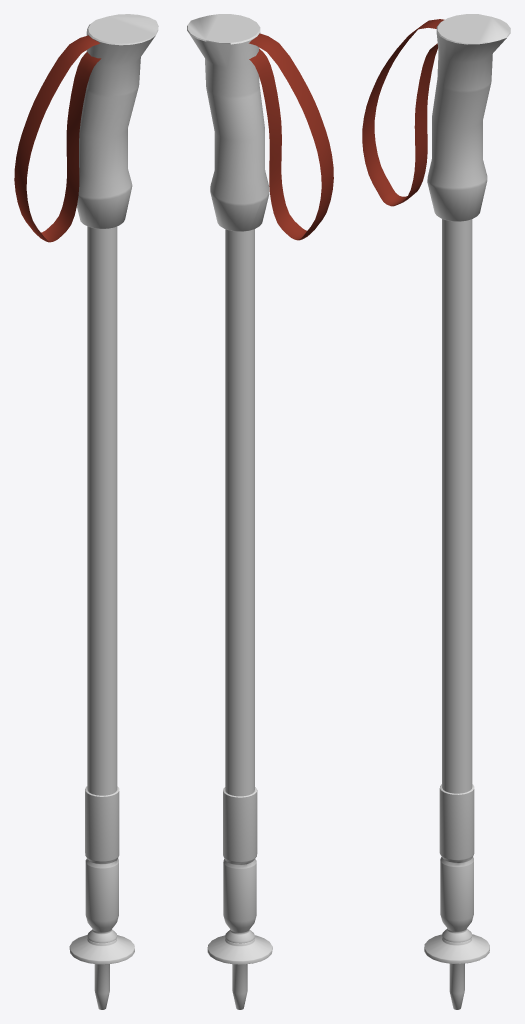
The model's file is poles.fbx.
3 renders of one model, left to right at view 1: azimuth 30°, elevation 25°; view 2: azimuth 150°, elevation 25°; view 3: azimuth 330°, elevation 25°, orthographic.
Parts seen in each view (by area): view 1: xuezhang, xuezhangSheng; view 2: xuezhang, xuezhangSheng; view 3: xuezhang, xuezhangSheng.
Part boxes in pixels (box(x1,y1,x2,y2)): xuezhang: box(69, 14, 158, 1009); xuezhangSheng: box(14, 35, 101, 242); xuezhang: box(187, 14, 272, 1009); xuezhangSheng: box(249, 33, 333, 240); xuezhang: box(424, 14, 510, 1009); xuezhangSheng: box(362, 19, 444, 206).
Size of the model in its own units: 14.48 by 98.07 by 6.71.
